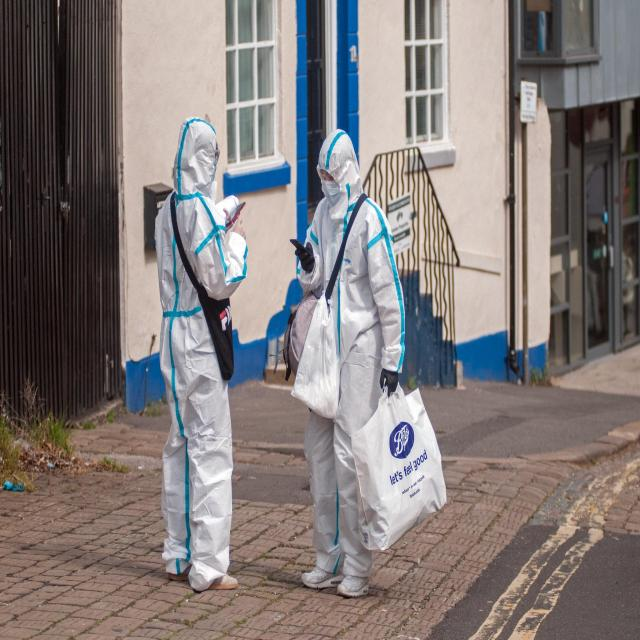Coverall: (300, 128, 411, 591), (153, 114, 251, 592)
Gloves: (380, 366, 399, 395)
Mask: (319, 183, 342, 207)
